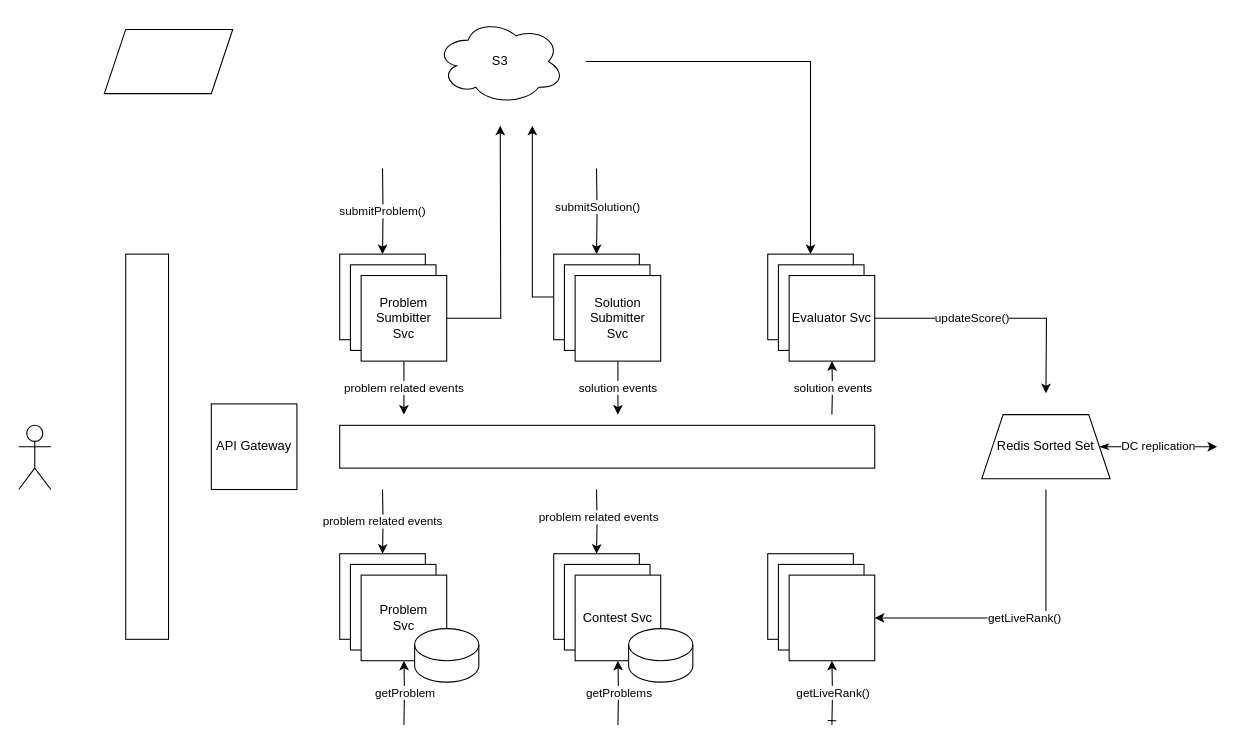
Image size: 1245x753. Some labels were removed from this diagram. Here are the shapes that lost their labels. From the top down, the centre of each, then its label:
At [168,61]: "CDN".
At [34,457]: "Actor".
At [147,446]: "LB(s)".
At [607,446]: "Kafka/Kinesis Event Bus".
At [831,617]: "Live Rank Svc".
